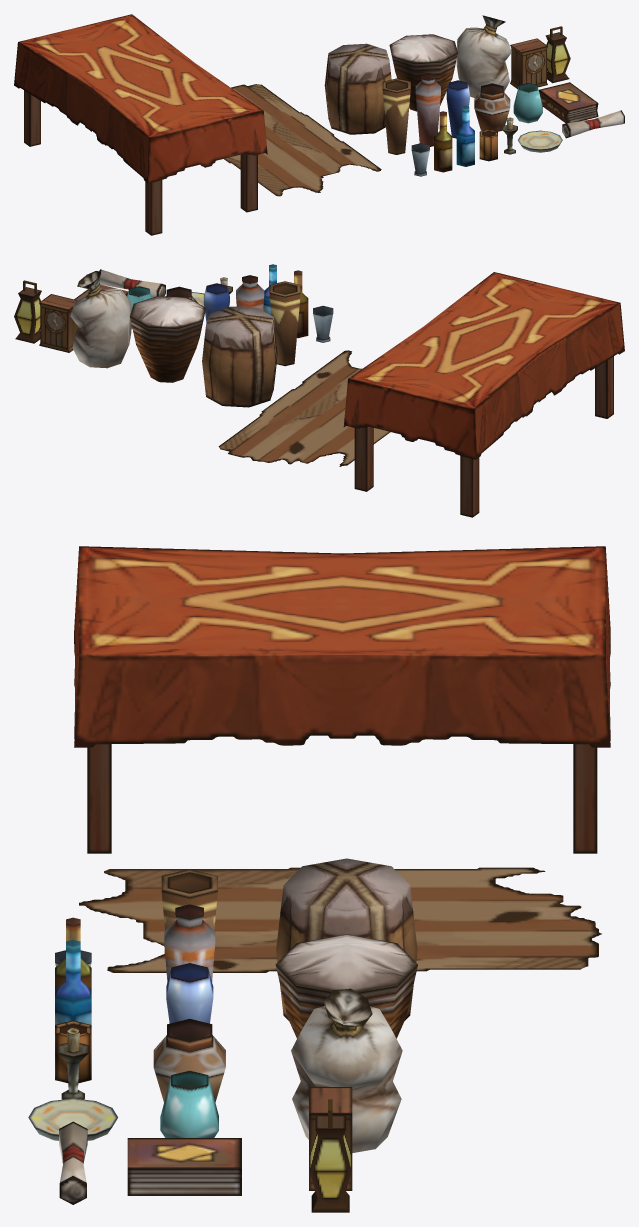
Rendered from 2_Misc_PingGuan_01.FBX.
3 renders of one model, top to bottom at view 1: azimuth 30°, elevation 25°; view 2: azimuth 150°, elevation 25°; view 3: azimuth 270°, elevation 25°, orthographic. The views are drawn at different scales.
Parts seen in each view (by area): view 1: 2_Misc_ZhuoZi_01, 2_Misc_DiTan_01, 2_Misc_Tong_01, 2_Misc_DaiZi_01, 2_Misc_Tong_02, 2_Misc_GuanZi_01, 2_Misc_Shu_01, 2_Misc_Zhong_01, 2_Misc_GuanZi_02, 2_Misc_GuanZi_04, 2_Misc_Deng_01, 2_Misc_GuanZi_05 (+8 smaller); view 2: 2_Misc_ZhuoZi_01, 2_Misc_DiTan_01, 2_Misc_Tong_01, 2_Misc_Tong_02, 2_Misc_DaiZi_01, 2_Misc_GuanZi_01, 2_Misc_Zhong_01, 2_Misc_Deng_01, 2_Misc_Shu_02, 2_Misc_GuanZi_02, 2_Misc_GuanZi_03, 2_Misc_GuanZi_06 (+1 smaller); view 3: 2_Misc_ZhuoZi_01, 2_Misc_DiTan_01, 2_Misc_DaiZi_01, 2_Misc_Tong_01, 2_Misc_Tong_02, 2_Misc_Shu_01, 2_Misc_GuanZi_04, 2_Misc_Deng_01, 2_Misc_GuanZi_05, 2_Misc_GuanZi_02, 2_Misc_PanZi_01, 2_Misc_GuanZi_03 (+6 smaller).
Boxes of the visible parts, x1,y1,x2,y2 form: 2_Misc_ZhuoZi_01: [14, 14, 267, 235]; 2_Misc_DiTan_01: [224, 84, 381, 196]; 2_Misc_Tong_01: [324, 43, 391, 134]; 2_Misc_DaiZi_01: [456, 15, 511, 97]; 2_Misc_Tong_02: [389, 34, 458, 111]; 2_Misc_GuanZi_01: [382, 78, 410, 154]; 2_Misc_Shu_01: [538, 82, 598, 123]; 2_Misc_Zhong_01: [510, 38, 547, 89]; 2_Misc_GuanZi_02: [415, 73, 440, 146]; 2_Misc_GuanZi_04: [474, 83, 510, 131]; 2_Misc_Deng_01: [545, 26, 570, 83]; 2_Misc_GuanZi_05: [513, 83, 542, 123]; 2_Misc_ZhuoZi_01: [343, 272, 624, 517]; 2_Misc_DiTan_01: [218, 350, 390, 466]; 2_Misc_Tong_01: [202, 306, 277, 407]; 2_Misc_Tong_02: [130, 296, 205, 382]; 2_Misc_DaiZi_01: [70, 271, 131, 368]; 2_Misc_GuanZi_01: [269, 281, 300, 366]; 2_Misc_Zhong_01: [39, 294, 77, 352]; 2_Misc_Deng_01: [14, 280, 41, 343]; 2_Misc_Shu_02: [99, 269, 165, 297]; 2_Misc_GuanZi_02: [236, 275, 264, 310]; 2_Misc_GuanZi_03: [203, 283, 229, 322]; 2_Misc_GuanZi_06: [313, 305, 333, 342]; 2_Misc_ZhuoZi_01: [74, 546, 610, 853]; 2_Misc_DiTan_01: [79, 867, 601, 972]; 2_Misc_DaiZi_01: [291, 988, 402, 1152]; 2_Misc_Tong_01: [276, 858, 417, 1020]; 2_Misc_Tong_02: [275, 934, 417, 1038]; 2_Misc_Shu_01: [127, 1138, 241, 1195]; 2_Misc_GuanZi_04: [153, 1018, 225, 1102]; 2_Misc_Deng_01: [310, 1099, 351, 1212]; 2_Misc_GuanZi_05: [160, 1070, 218, 1137]; 2_Misc_GuanZi_02: [164, 904, 215, 981]; 2_Misc_PanZi_01: [28, 1098, 117, 1140]; 2_Misc_GuanZi_03: [166, 963, 213, 1023].
Bounding box in the file's own units: 633 × 130 × 332.
